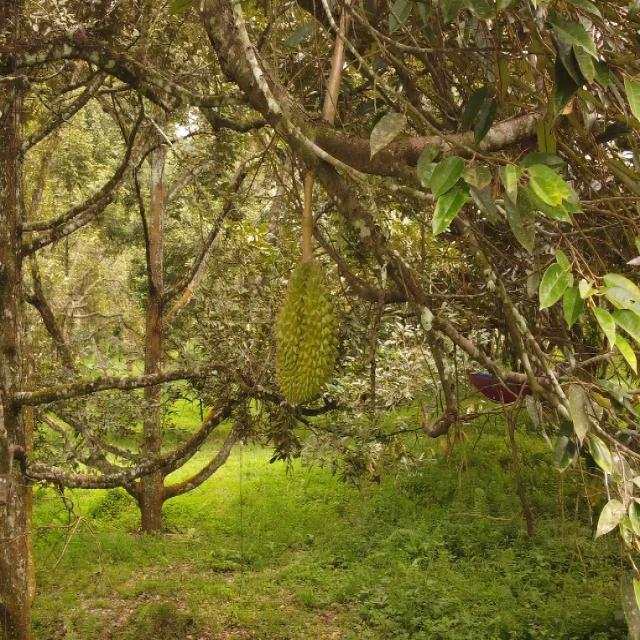immature: (274, 251, 340, 405)
